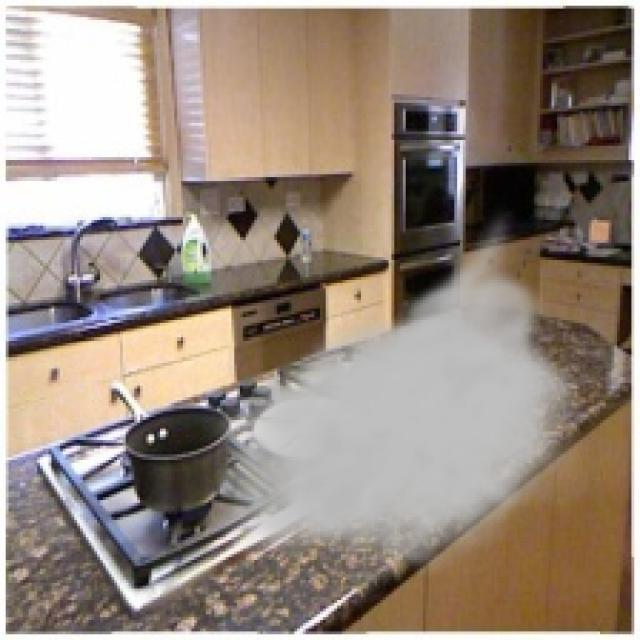Smoke: (197, 202, 592, 574)
